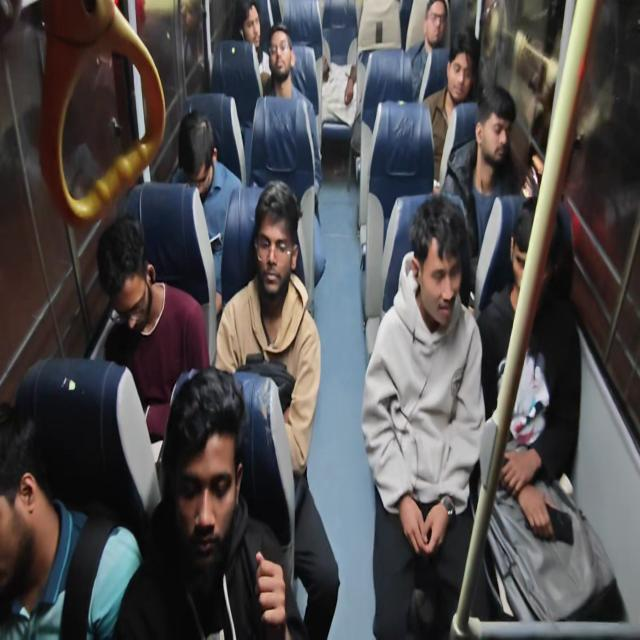person: (475, 198, 628, 624), (214, 178, 341, 638), (361, 193, 486, 638), (111, 365, 307, 639), (0, 401, 143, 638), (96, 214, 210, 441), (172, 108, 243, 313), (440, 84, 524, 256), (260, 22, 323, 198), (421, 27, 481, 188), (406, 0, 448, 101), (234, 0, 271, 95), (179, 0, 209, 95), (320, 56, 357, 126)
